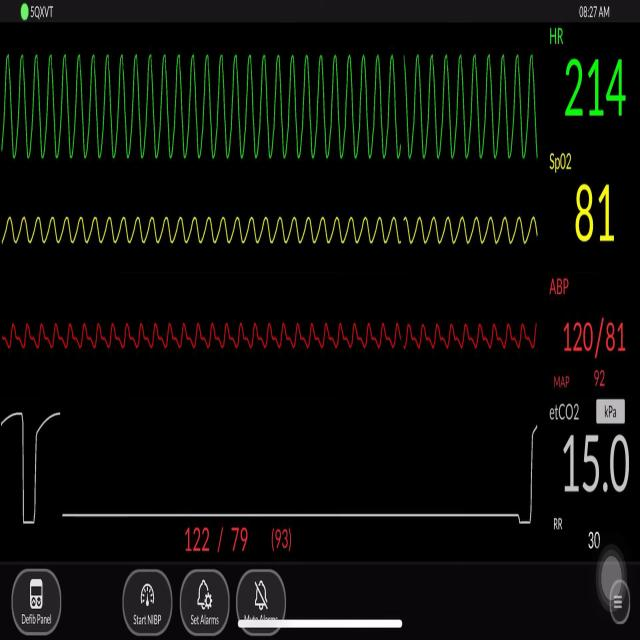danger: (5, 36, 545, 184)
